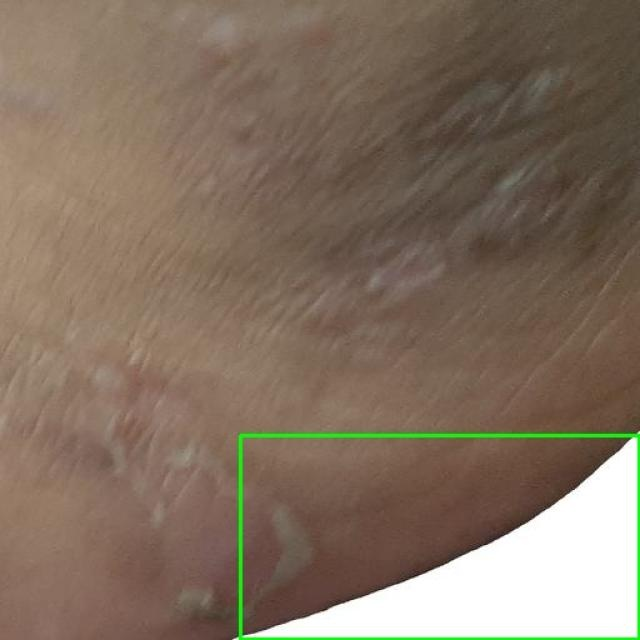Eczema: (240, 435, 639, 639)
